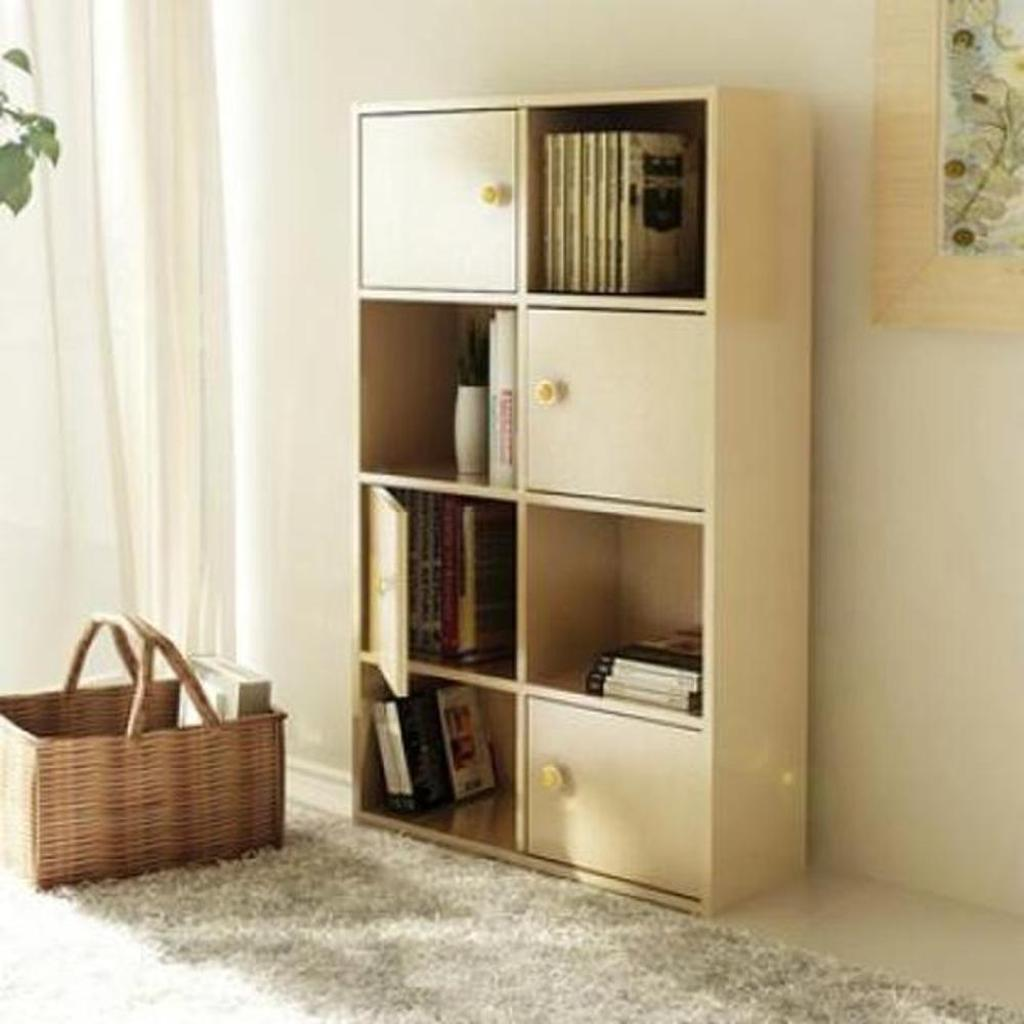lamp: (346, 79, 820, 920)
